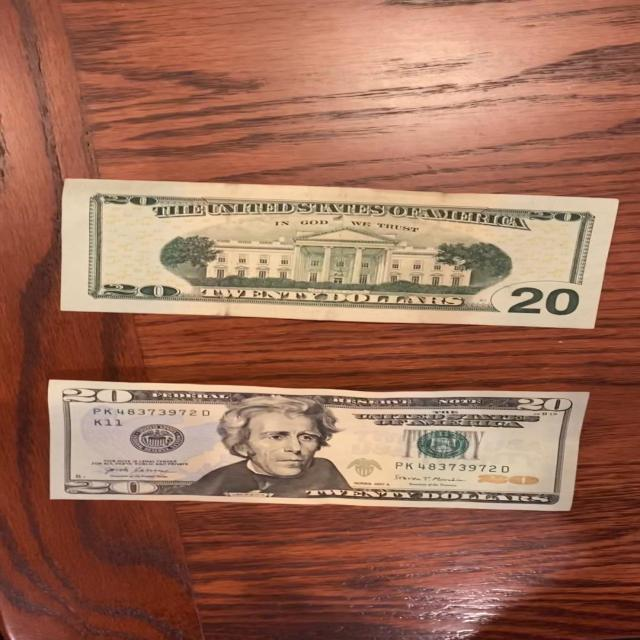20-Back: (49, 174, 624, 331)
20-Front: (33, 373, 598, 512)
